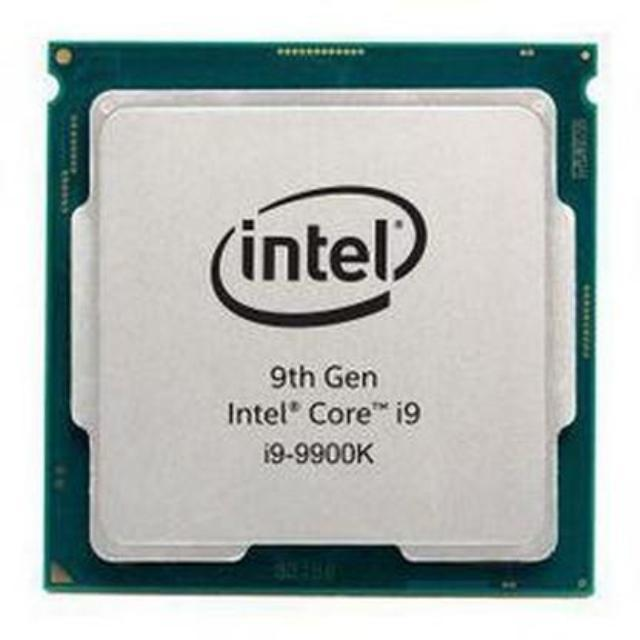CPU: (46, 50, 586, 592)
